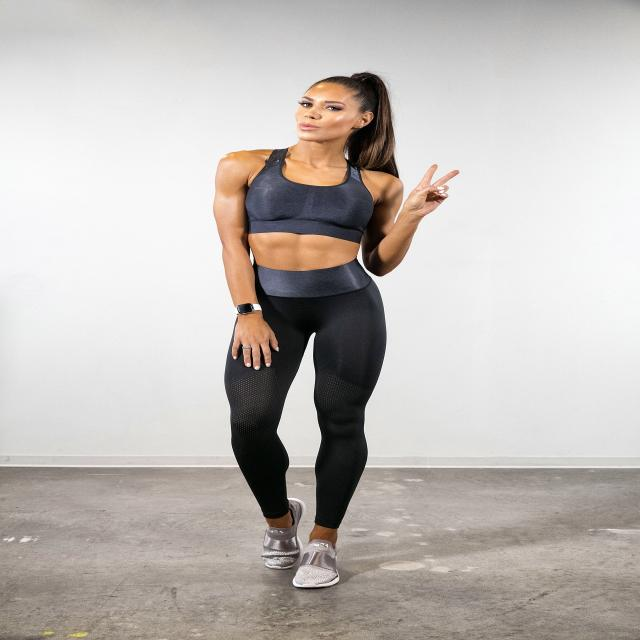adult: (213, 69, 462, 592)
